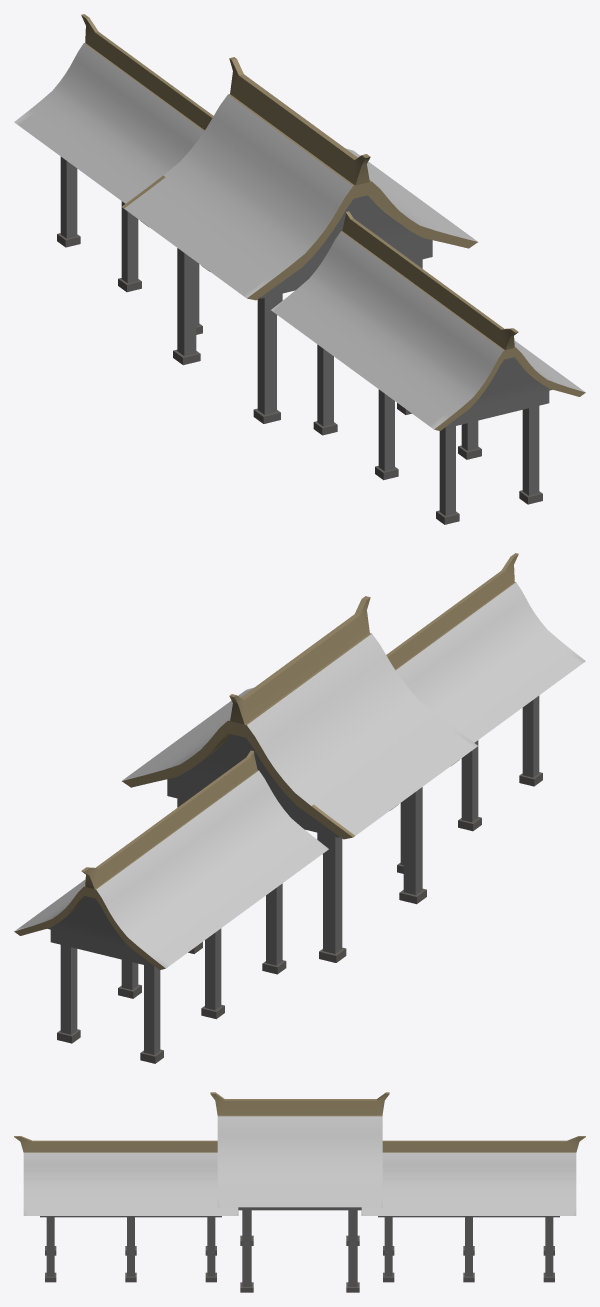
Rendered from roofed corridor.fbx.
3 views of the same model, one above another, from view 1: azimuth 30°, elevation 25°; view 2: azimuth 150°, elevation 25°; view 3: azimuth 270°, elevation 25° (orthographic). The views are drawn at different scales.
Parts seen in each view (by area): view 1: polySurface24; view 2: polySurface24; view 3: polySurface24.
Part boxes in pixels (x1,y1,x2,y2): polySurface24: (14,14,585,524); polySurface24: (14,553,585,1063); polySurface24: (14,1092,585,1292).
Size of the model in its own units: 484 by 526 by 1571.
